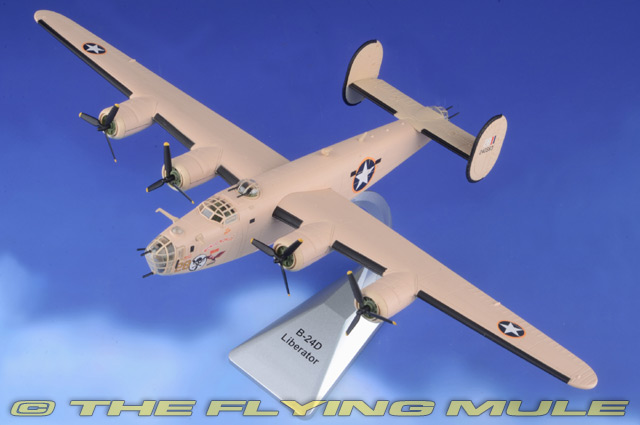Propeller: (78, 97, 130, 167), (343, 274, 400, 336), (254, 232, 307, 296), (152, 141, 192, 209)
